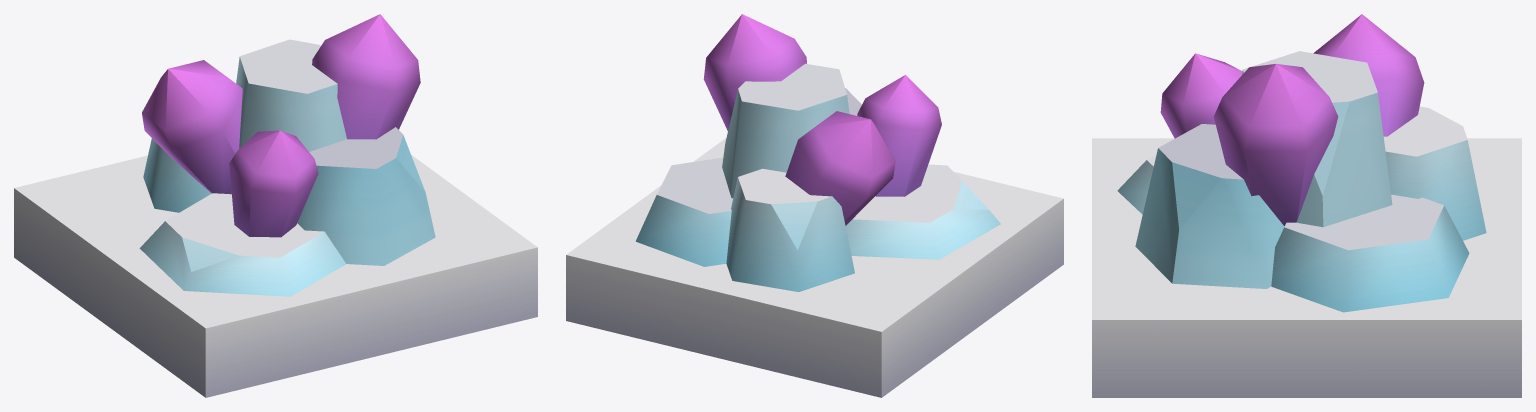
File: snow-tile-crystal.fbx
The picture shows the model from 3 angles, left to right: view 1: azimuth 30°, elevation 25°; view 2: azimuth 150°, elevation 25°; view 3: azimuth 270°, elevation 25°; orthographic projection. The views are drawn at different scales.
Visible parts, largest first — view 1: snow-tile-crystal; view 2: snow-tile-crystal; view 3: snow-tile-crystal.
Part boxes in pixels (left/top/right/bottom): snow-tile-crystal: left=14, top=14, right=537, bottom=397; snow-tile-crystal: left=566, top=14, right=1063, bottom=397; snow-tile-crystal: left=1092, top=14, right=1521, bottom=397.
Bounding box in the file's own units: 100 × 75.18 × 100.
